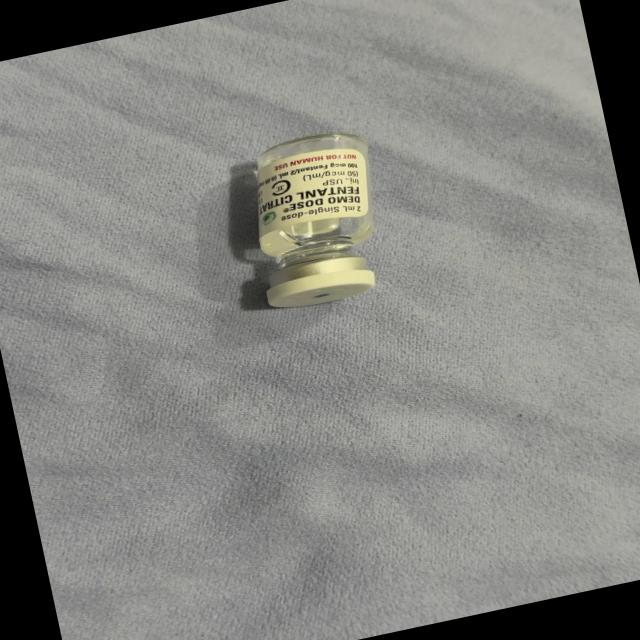fentanl_citrat: (234, 128, 394, 312)
